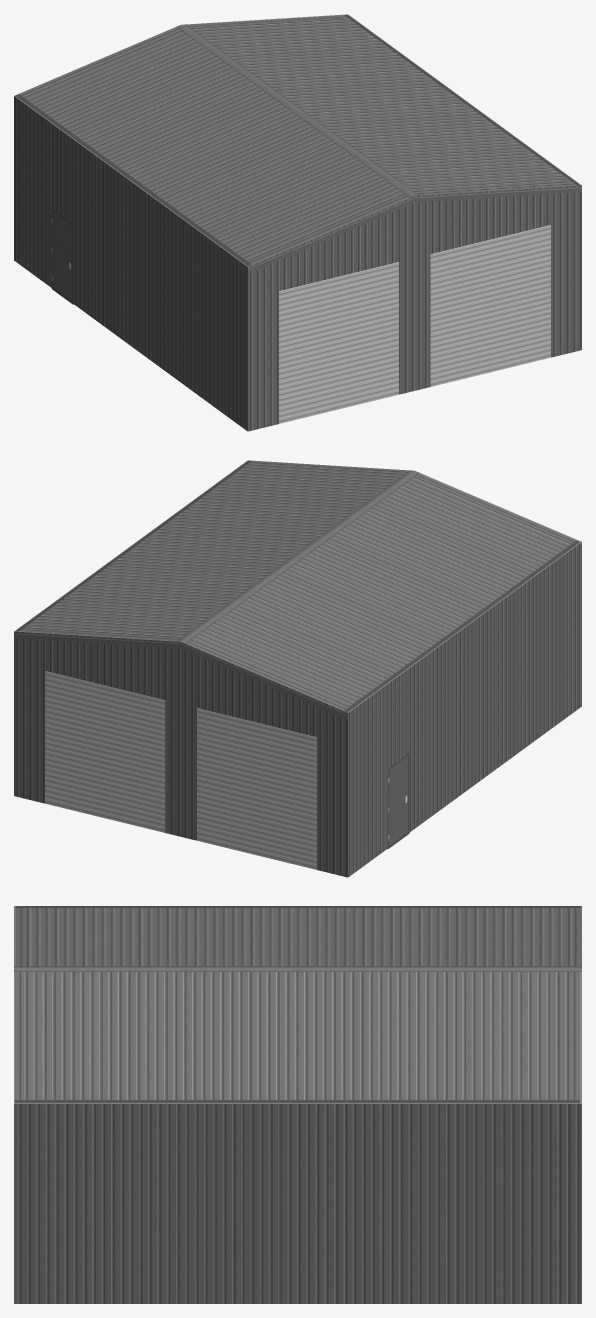
The model's file is shed-10x12x5-cbj_LOD01.gltf.
3 renders of one model, top to bottom at view 1: azimuth 30°, elevation 25°; view 2: azimuth 150°, elevation 25°; view 3: azimuth 270°, elevation 25°, orthographic. The views are drawn at different scales.
Parts seen in each view (by area): view 1: Cube01; view 2: Cube01; view 3: Cube01.
Part boxes in pixels (x1,y1,x2,y2): Cube01: (14,14,581,431); Cube01: (14,460,581,877); Cube01: (14,906,581,1303).
Size of the model in its own units: 9.93 by 5.52 by 12.
